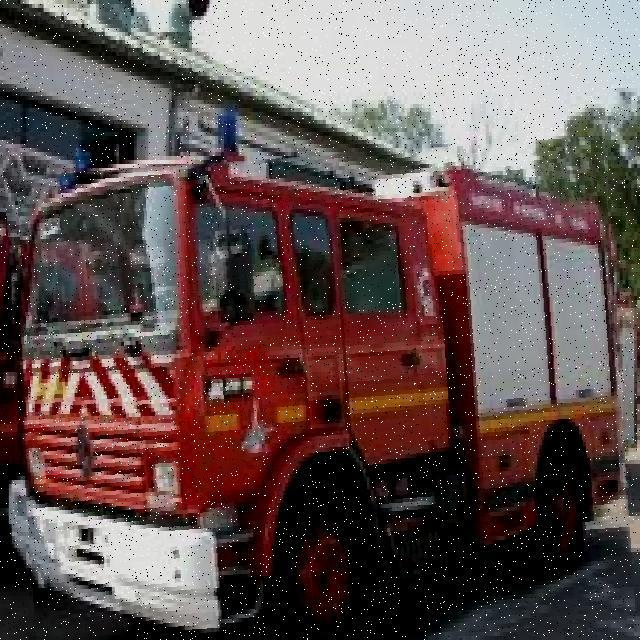pompier: (12, 146, 627, 640)
